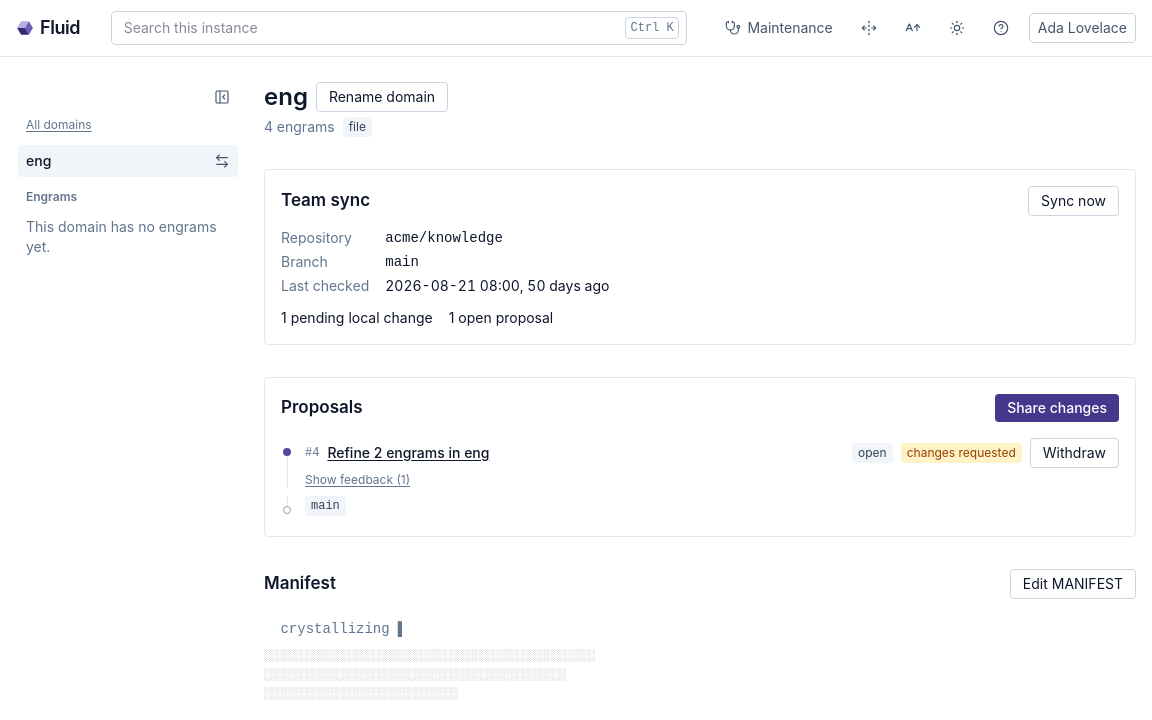
the proposals card › shows each proposal with its review standing and feedback
Expected: the text "changes requested" is shown, [901, 443, 1022, 463]
Expected: the text "needs a source" is not shown
Click the button "Show feedback (1)". click: [358, 480]
box: [305, 472, 410, 488]
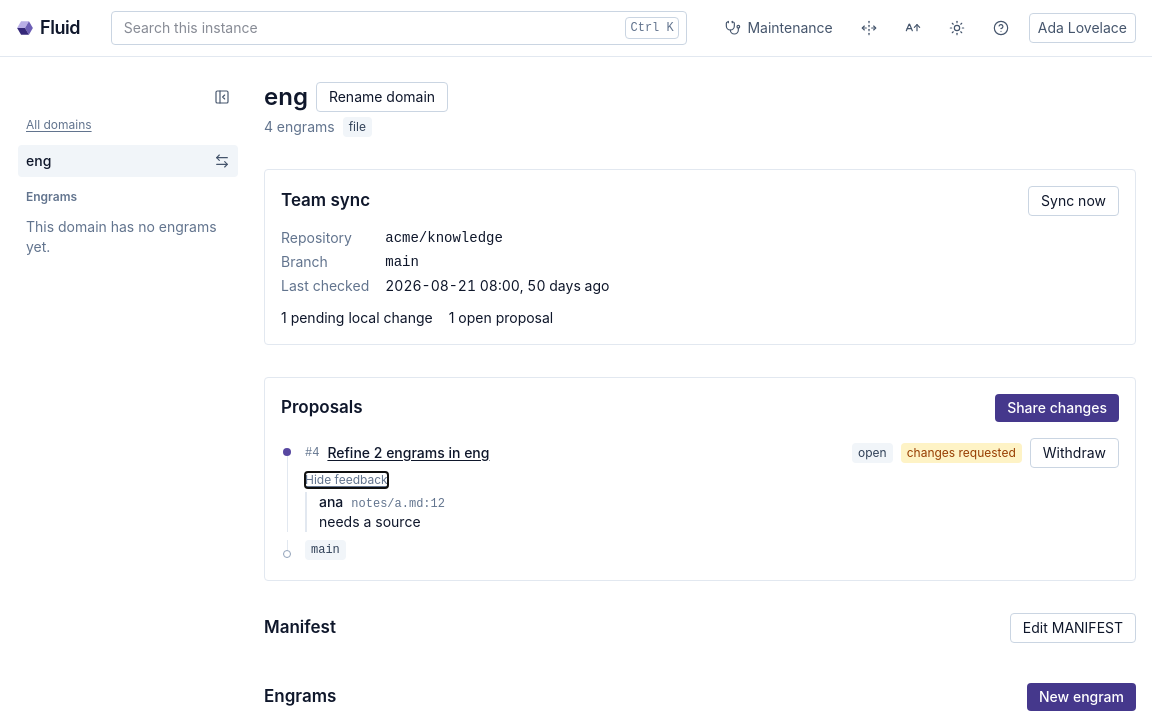
Result: the text "needs a source" is shown at [319, 513, 421, 530]
Result: the text "notes/a.md:12" is shown at [351, 496, 445, 512]
